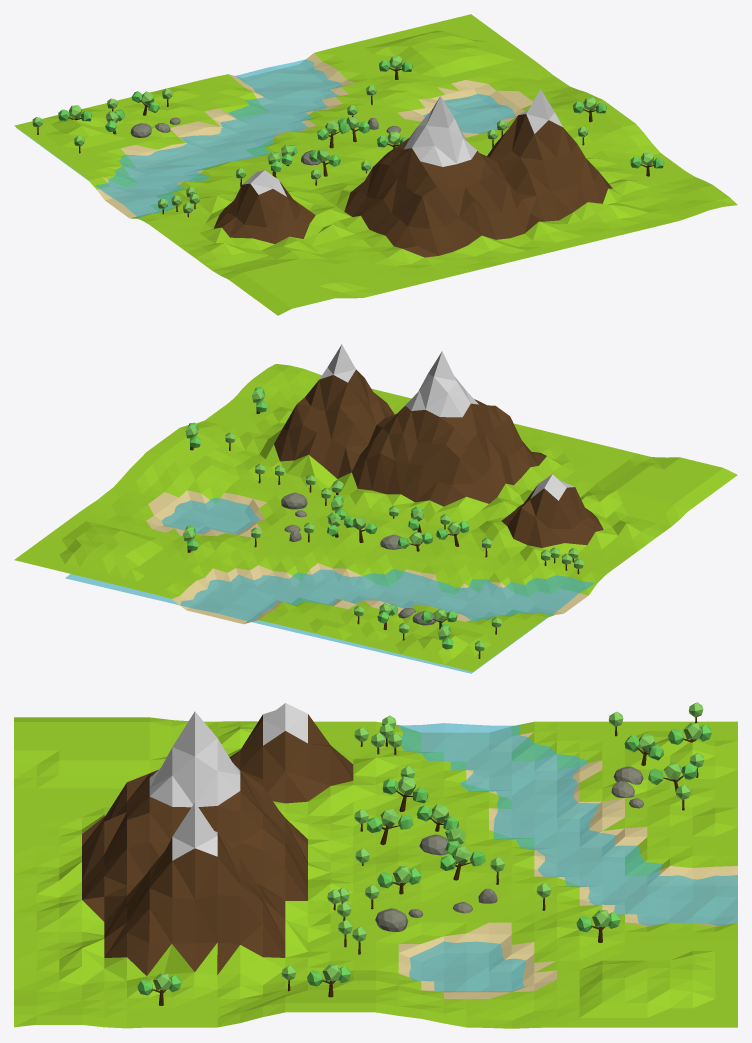
Rendered from meditation_landscape.gltf.
The picture shows the model from 3 angles, top to bottom: view 1: azimuth 30°, elevation 25°; view 2: azimuth 150°, elevation 25°; view 3: azimuth 270°, elevation 25°; orthographic projection. The views are drawn at different scales.
Visible parts, largest first — view 1: Landscape, Plane; view 2: Landscape, Plane; view 3: Landscape, Plane, Icosphere.011, Icosphere.010, Icosphere.012, Icosphere.014, Icosphere.017, Icosphere.016, Icosphere.018, Icosphere.013, Icosphere.002, Icosphere.009 (+2 smaller).
Boxes of the visible parts, x1=… form: Landscape: x1=14, y1=14, x2=737, y2=315; Plane: x1=16, y1=59, x2=515, y2=223; Landscape: x1=14, y1=344, x2=737, y2=671; Plane: x1=65, y1=498, x2=596, y2=673; Landscape: x1=14, y1=703, x2=737, y2=1028; Plane: x1=396, y1=723, x2=737, y2=991; Icosphere.011: x1=382, y1=776, x2=428, y2=811; Icosphere.010: x1=367, y1=809, x2=413, y2=845; Icosphere.012: x1=440, y1=846, x2=485, y2=880; Icosphere.014: x1=648, y1=762, x2=697, y2=794; Icosphere.017: x1=137, y1=973, x2=181, y2=1005; Icosphere.016: x1=307, y1=964, x2=350, y2=997; Icosphere.018: x1=576, y1=910, x2=620, y2=942; Icosphere.013: x1=624, y1=733, x2=663, y2=765; Icosphere.002: x1=377, y1=866, x2=421, y2=894; Icosphere.009: x1=416, y1=804, x2=459, y2=831.
Bounding box in the file's own units: 15.39 × 4.07 × 15.29.
